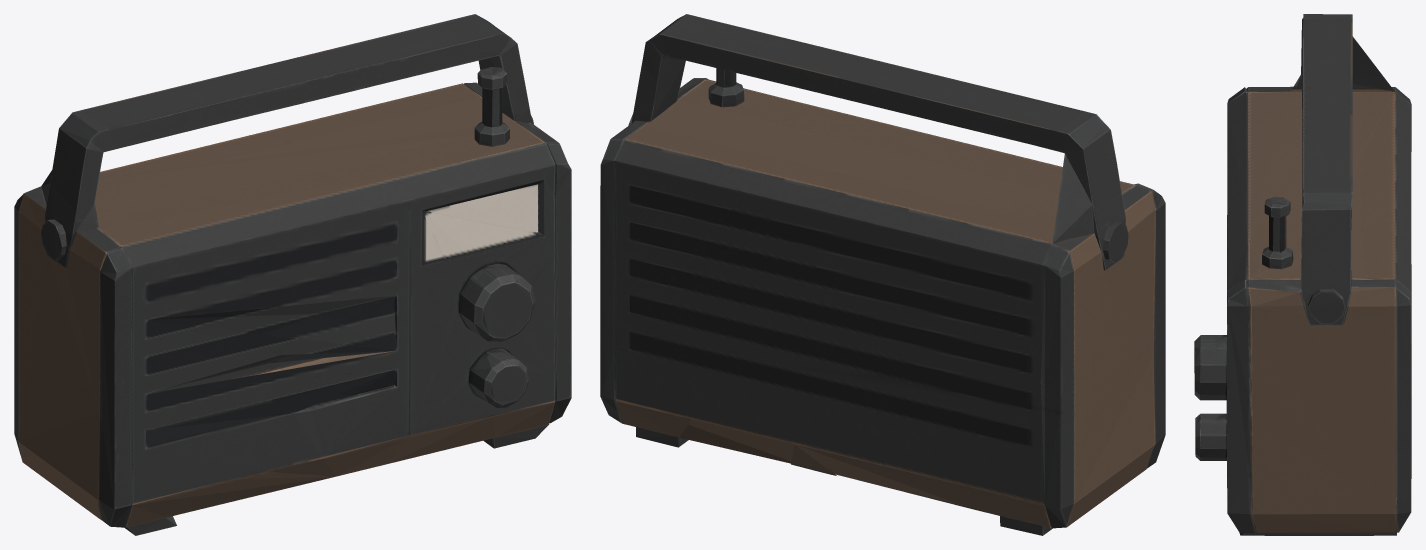
Rendered from S8_transistor_radio_a.glb.
The picture shows the model from 3 angles, left to right: view 1: azimuth 30°, elevation 25°; view 2: azimuth 150°, elevation 25°; view 3: azimuth 270°, elevation 25°; orthographic projection. The views are drawn at different scales.
Visible parts, largest first — view 1: Mesh_0; view 2: Mesh_0; view 3: Mesh_0.
Boxes of the visible parts, x1,y1,x2,y2 form: Mesh_0: (14,14,571,535); Mesh_0: (600,14,1165,535); Mesh_0: (1194,14,1411,535).
Bounding box in the file's own units: 0.35 × 0.2676 × 0.1531.
Materials: 1 (1 with a texture image).
